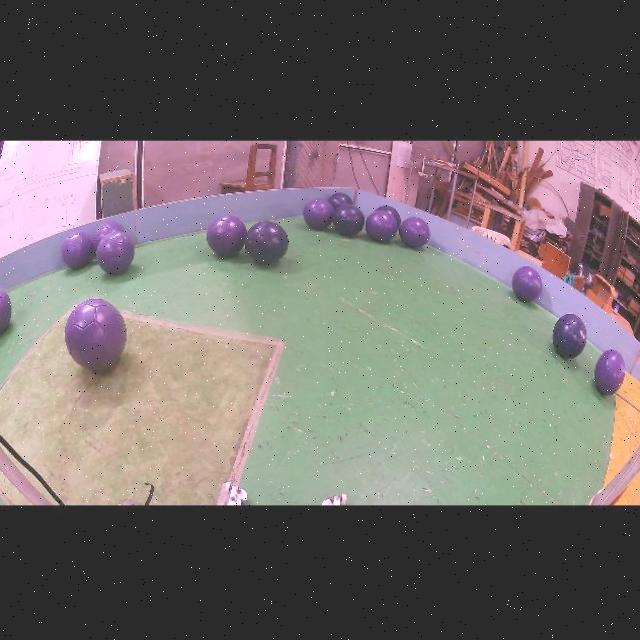B: (245, 221, 288, 264), (553, 314, 587, 358), (332, 204, 365, 236), (375, 205, 401, 228), (329, 193, 353, 209)
P: (65, 298, 127, 371), (96, 231, 135, 275), (207, 215, 246, 257), (594, 350, 625, 395), (62, 231, 91, 270), (512, 266, 543, 302), (365, 210, 398, 242), (92, 222, 125, 252), (399, 217, 430, 247), (303, 199, 334, 229), (0, 288, 12, 334)
